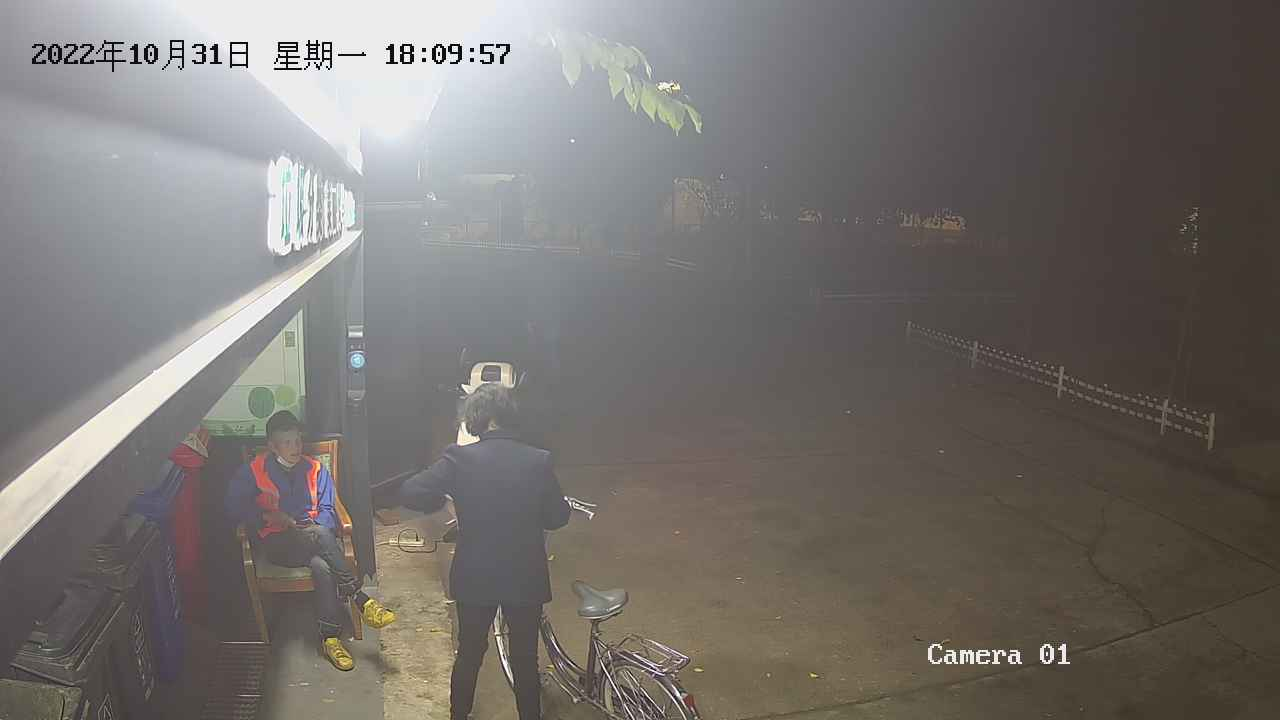person: (396, 380, 573, 720)
worker: (220, 410, 397, 674)
